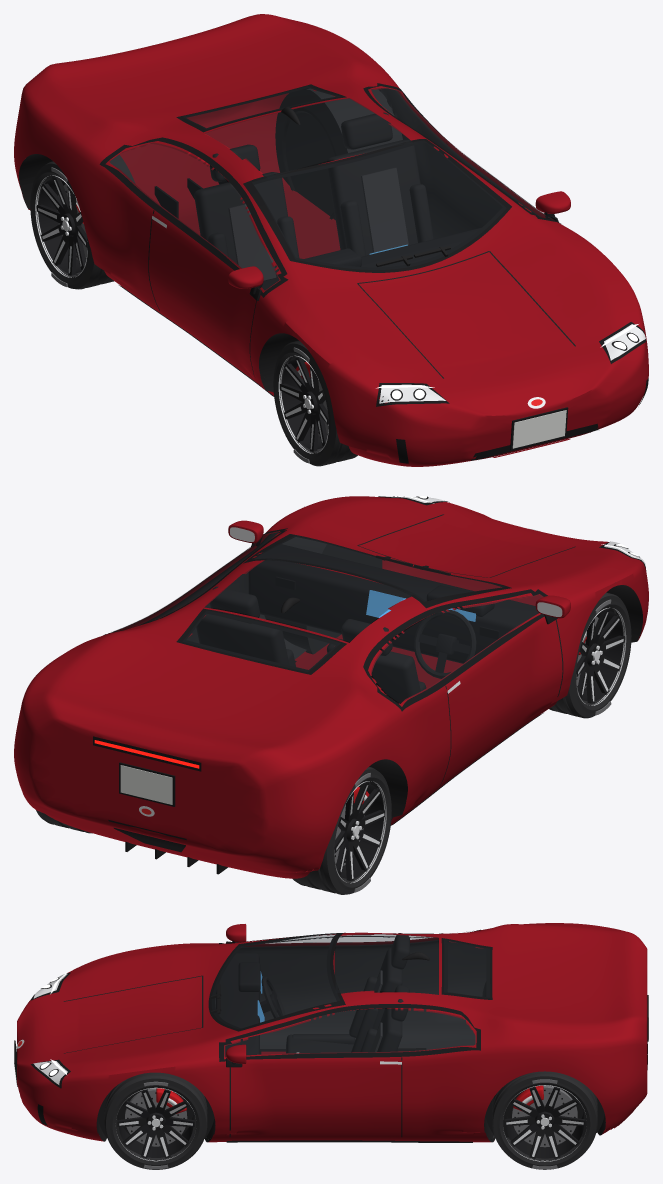
The model's file is roadster2.glb.
3 renders of one model, top to bottom at view 1: azimuth 30°, elevation 25°; view 2: azimuth 150°, elevation 25°; view 3: azimuth 270°, elevation 25°, orthographic. The views are drawn at different scales.
Parts seen in each view (by area): view 1: Body, Wheel_FR, Wheel_RR; view 2: Body, Wheel_RR, Wheel_FR; view 3: Body, Wheel_RL, Wheel_FL.
Boxes of the visible parts, bbox=[...] form: Body: bbox=[14, 14, 648, 466]; Wheel_FR: bbox=[273, 340, 357, 466]; Wheel_RR: bbox=[30, 161, 114, 289]; Body: bbox=[14, 495, 648, 878]; Wheel_RR: bbox=[292, 767, 391, 894]; Wheel_FR: bbox=[549, 592, 631, 718]; Body: bbox=[14, 923, 648, 1142]; Wheel_RL: bbox=[492, 1071, 597, 1169]; Wheel_FL: bbox=[104, 1072, 207, 1169].
Bounding box in the file's own units: 2.14 × 1.21 × 4.33.
